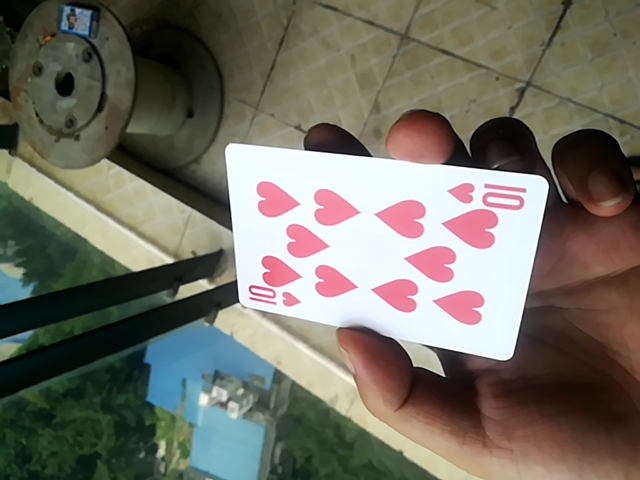hx 10: (221, 140, 545, 359)
